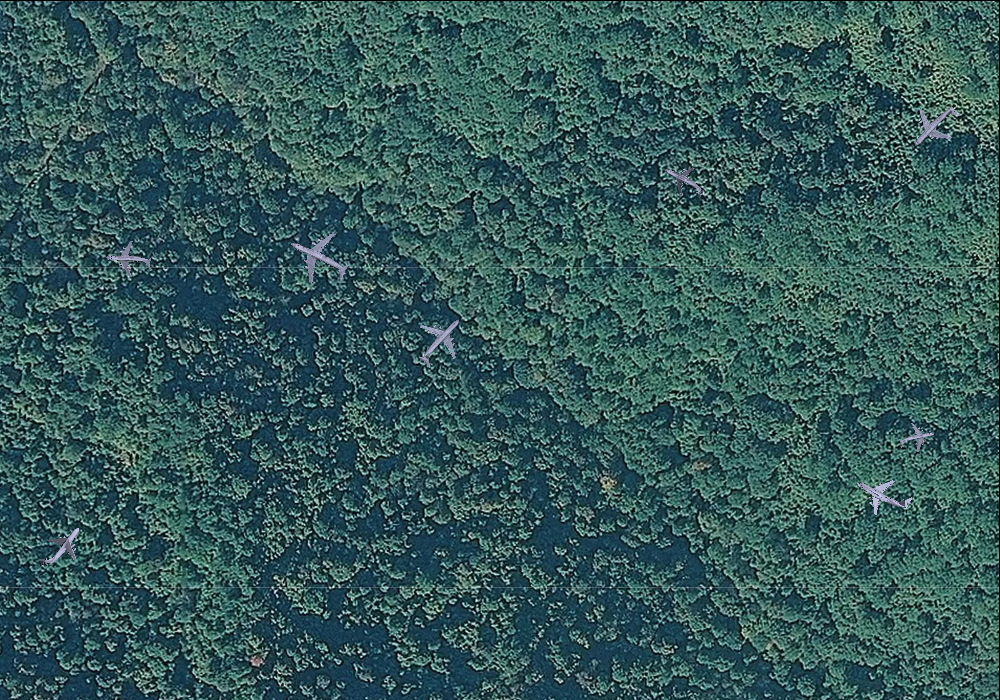plane: (277, 217, 359, 298), (401, 302, 479, 380), (898, 89, 973, 164), (847, 459, 920, 529), (27, 513, 93, 580), (655, 154, 713, 209), (104, 238, 152, 282), (895, 418, 938, 458)
